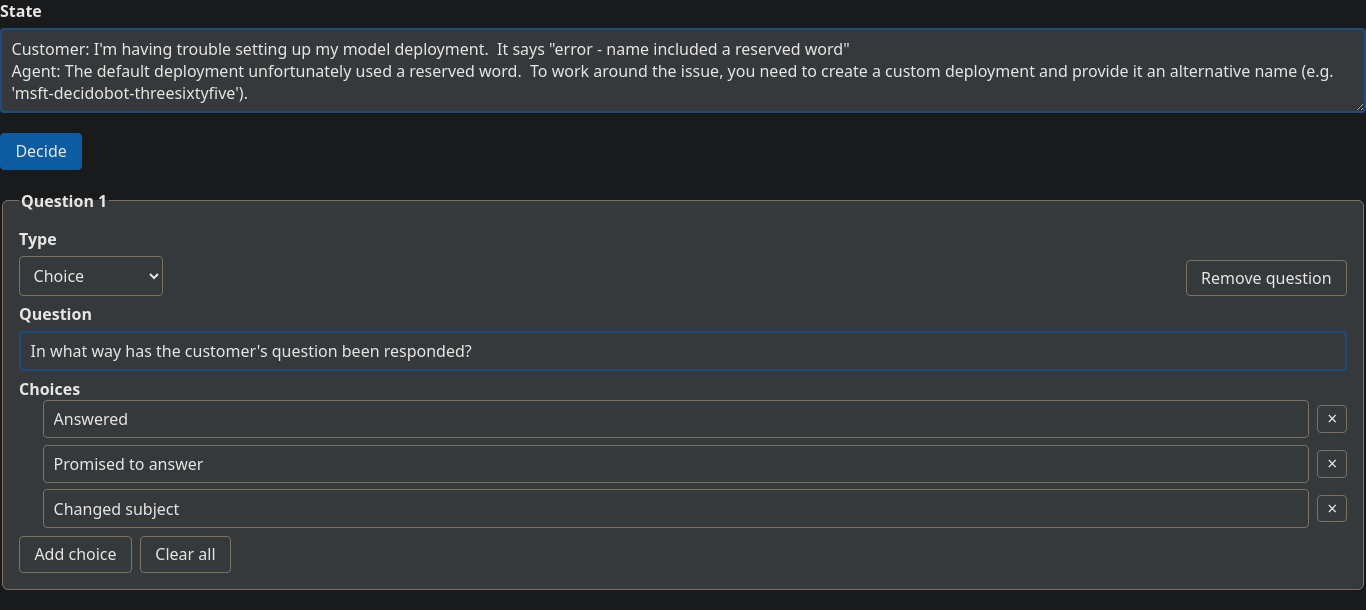
Test case: DecisionForm › hides choices for noul and restores them when switching back
Select "Yes / no" in the dropdown named "Question 1 type" at x=91, y=276, box [19,256,163,296]
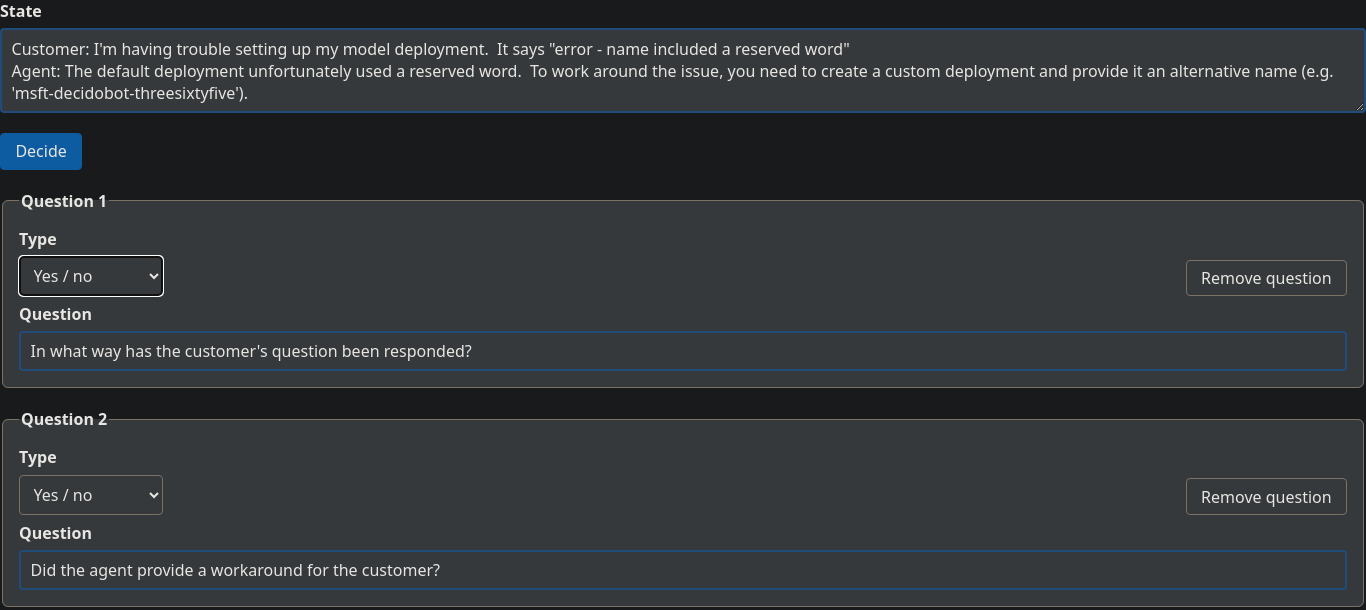
Select "Choice" in the dropdown named "Question 1 type" at x=91, y=276, box [19,256,163,296]
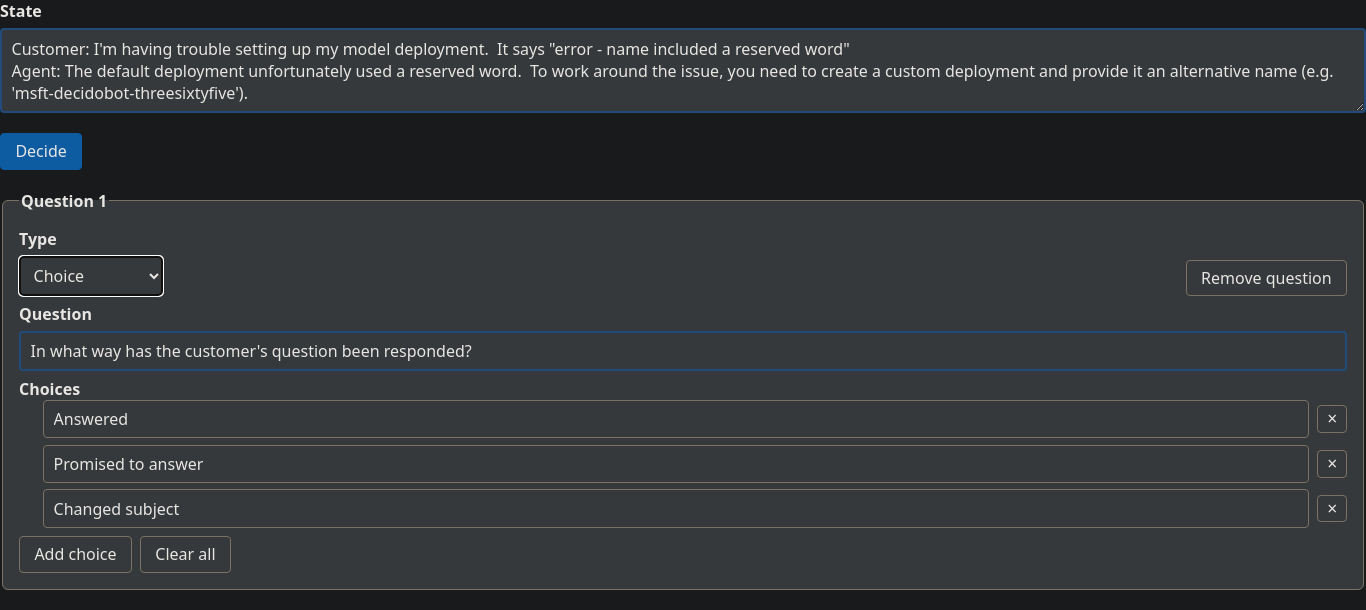
Expected: the field named "Choice 1.1" holds "Answered", [43,400,1309,438]
